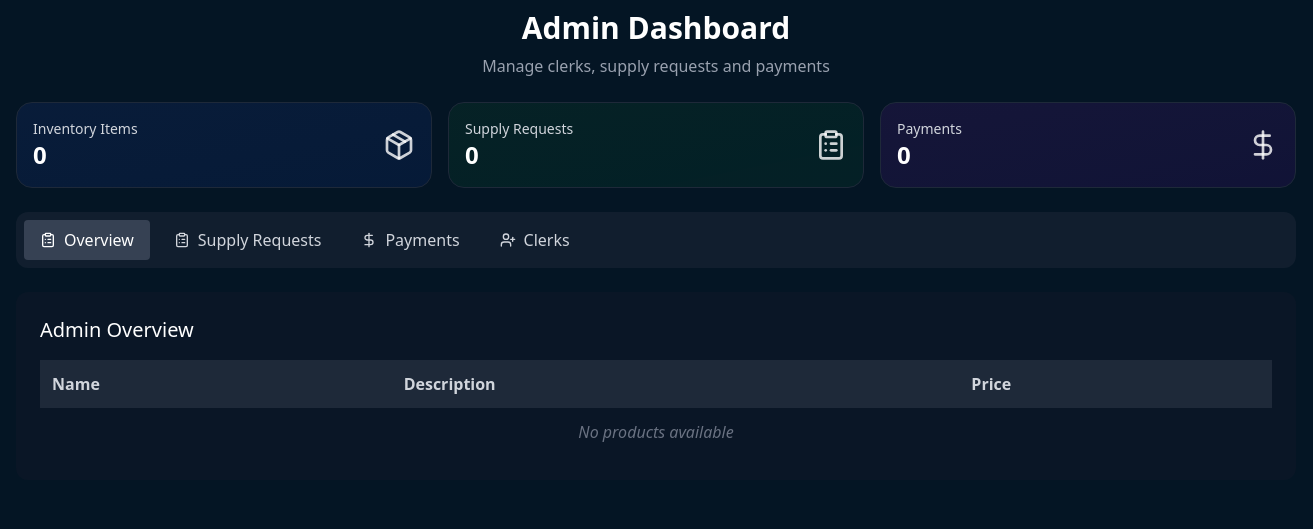
Test case: AdminDashboard › switches to Payments tab
Click the button "Payments": (410, 240) [345,220,476,260]
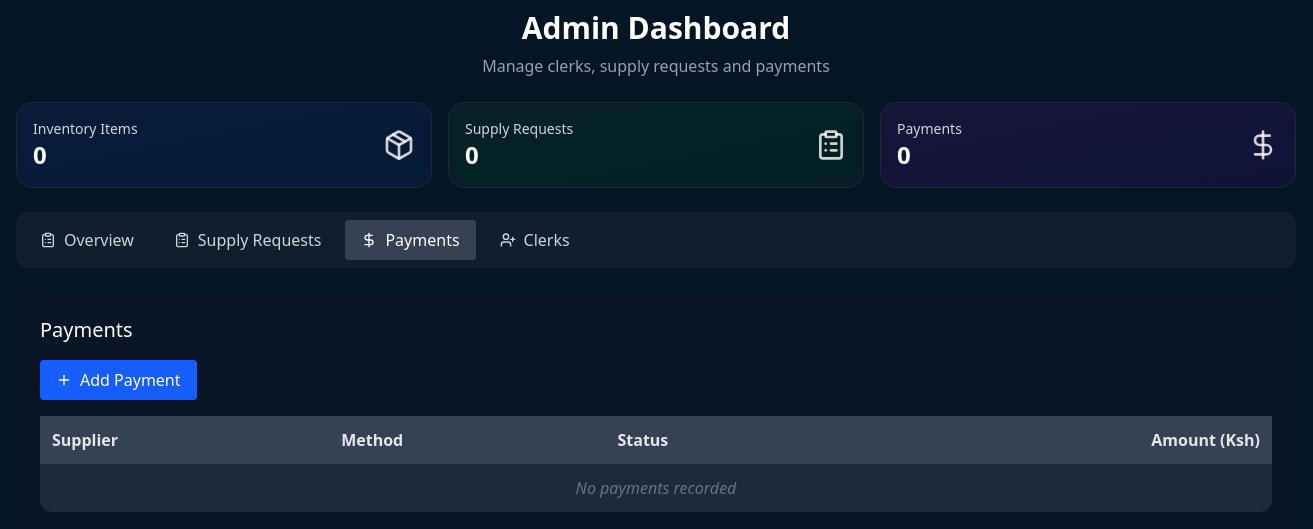
Expected: the column heading "Supplier" is shown, [40,416,329,464]
